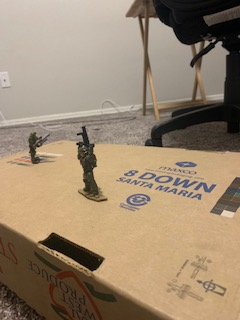soldier: (73, 125, 104, 201), (28, 130, 53, 167)
